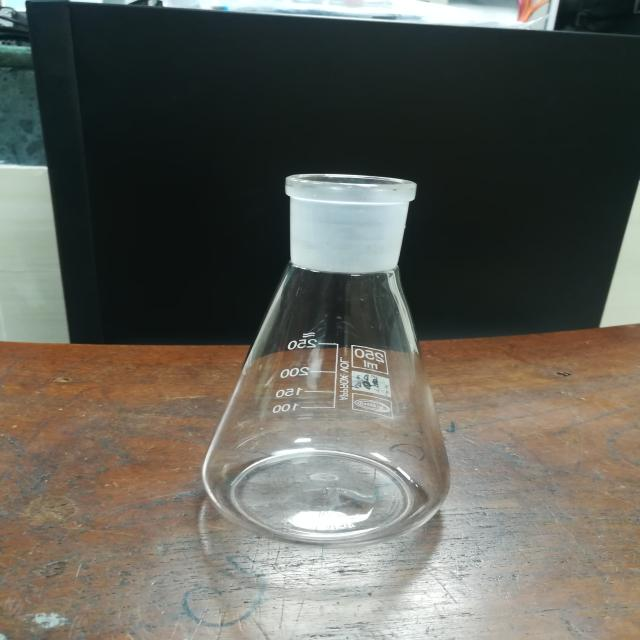Conical_Flask: (171, 125, 488, 578)
